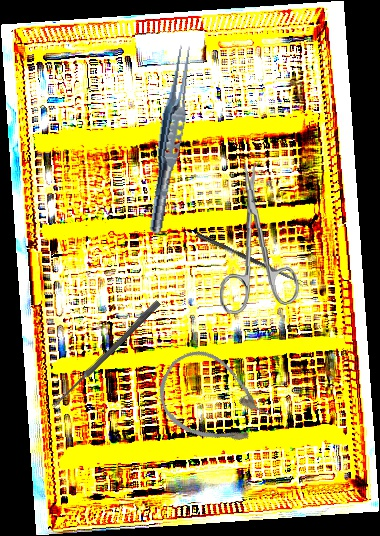Cannula: (145, 338, 282, 465)
Iris Scissors: (213, 160, 300, 315)
Surgical Spoon: (51, 299, 161, 410), (195, 232, 305, 287)
Tissue Forceps: (144, 42, 197, 235)
